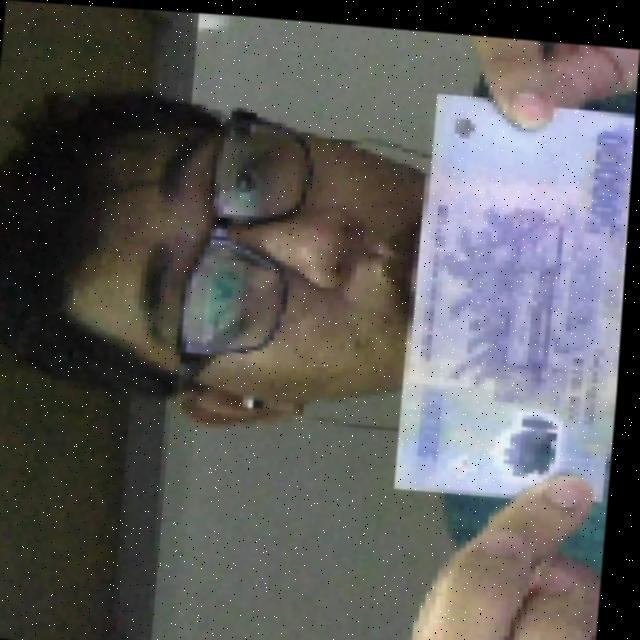500 000 VND: (388, 77, 637, 504)
